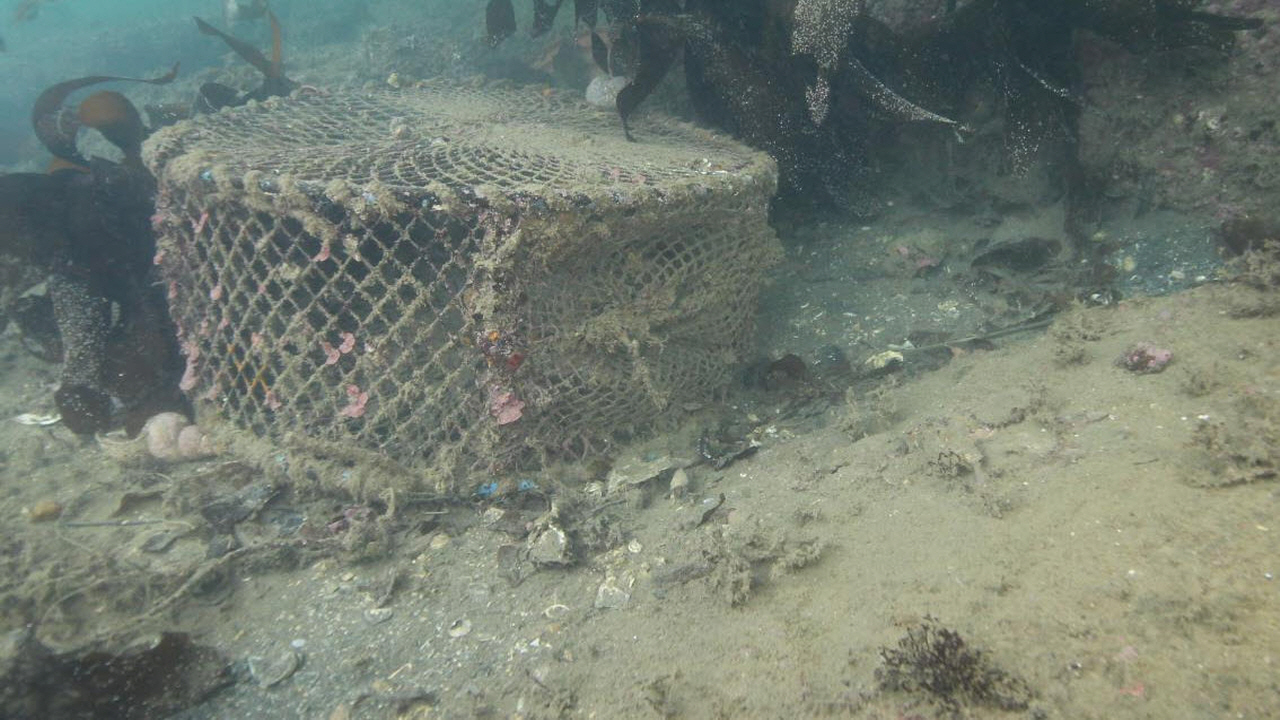circular fish trap: (139, 74, 779, 499)
